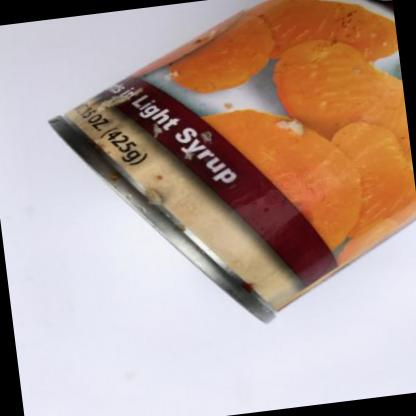Metal: (49, 0, 416, 320)
